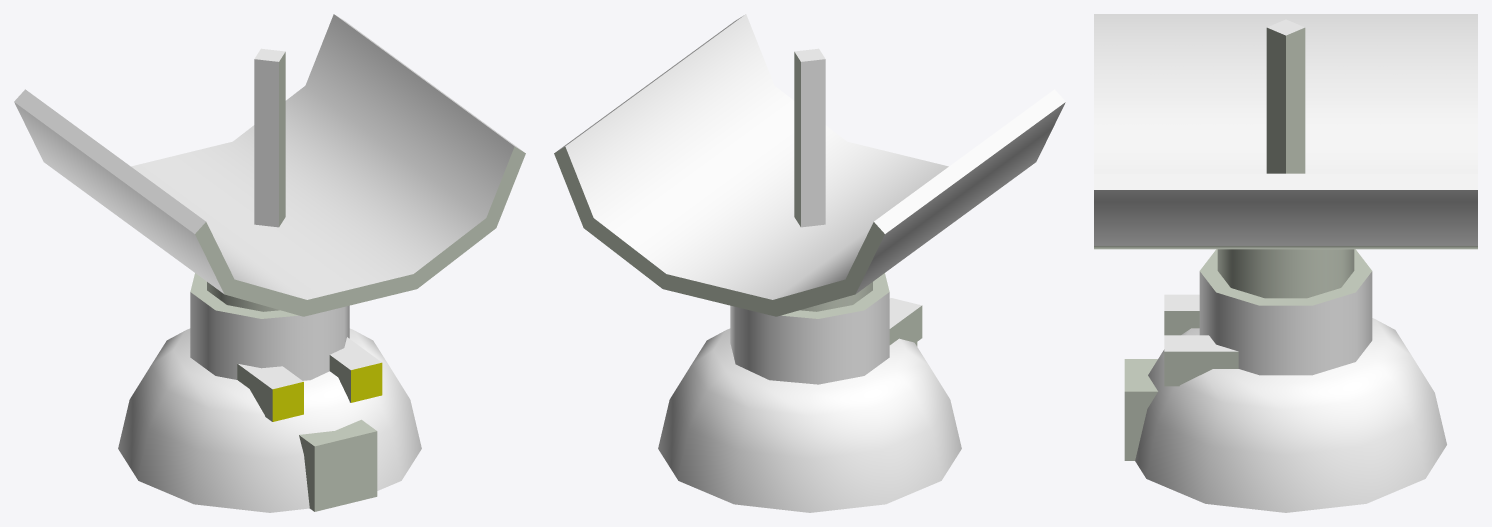
Rendered from Lab.Neutral.glb.
The picture shows the model from 3 angles, left to right: view 1: azimuth 30°, elevation 25°; view 2: azimuth 150°, elevation 25°; view 3: azimuth 270°, elevation 25°; orthographic projection. The views are drawn at different scales.
Visible parts, largest first — view 1: Lab.Neutral; view 2: Lab.Neutral; view 3: Lab.Neutral.
Boxes of the visible parts, x1,y1,x2,y2 form: Lab.Neutral: (14, 14, 525, 512); Lab.Neutral: (554, 14, 1065, 512); Lab.Neutral: (1094, 14, 1477, 512).
Bounding box in the file's own units: 2.11 × 2.41 × 2.
Materials: 2 (1 with a texture image).
